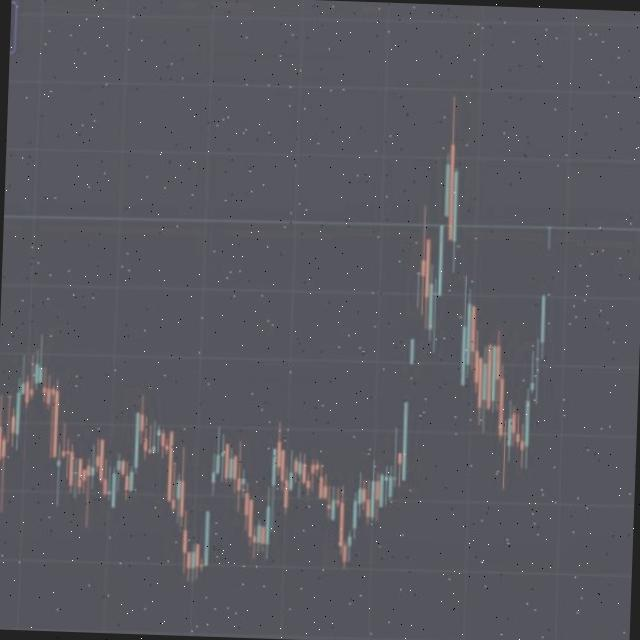Gap Down: (448, 168, 472, 384)
Gap Up: (401, 336, 417, 480), (202, 468, 218, 570), (437, 162, 449, 294), (409, 266, 424, 366)
